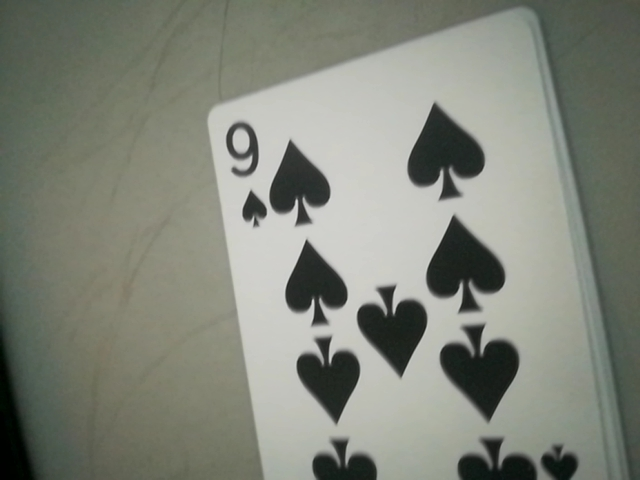ht 9: (215, 110, 278, 236)
